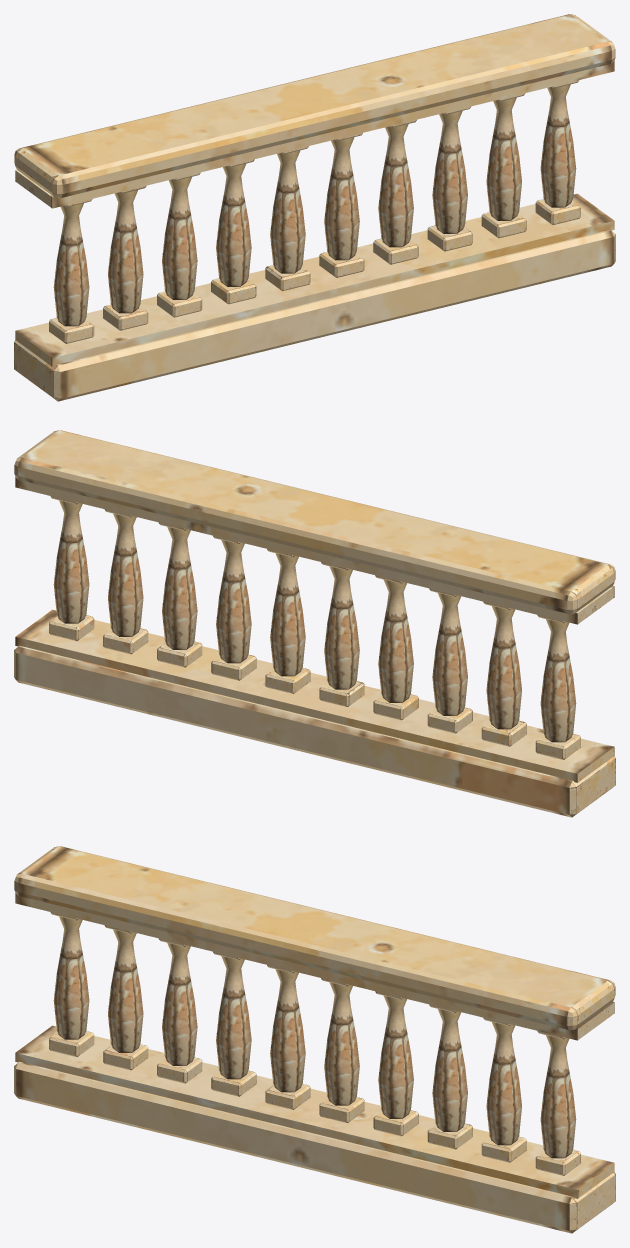
The picture shows the model from 3 angles, top to bottom: view 1: azimuth 30°, elevation 25°; view 2: azimuth 150°, elevation 25°; view 3: azimuth 330°, elevation 25°; orthographic projection.
Parts seen in each view (by area): view 1: seaside_stone; view 2: seaside_stone; view 3: seaside_stone.
Part boxes in pixels (box(x1,y1,x2,y2)): seaside_stone: box(14, 14, 615, 401); seaside_stone: box(14, 430, 615, 817); seaside_stone: box(14, 846, 615, 1233).
Bounding box in the file's own units: 2.62 × 1 × 0.36.
1 material, 1 textured.
